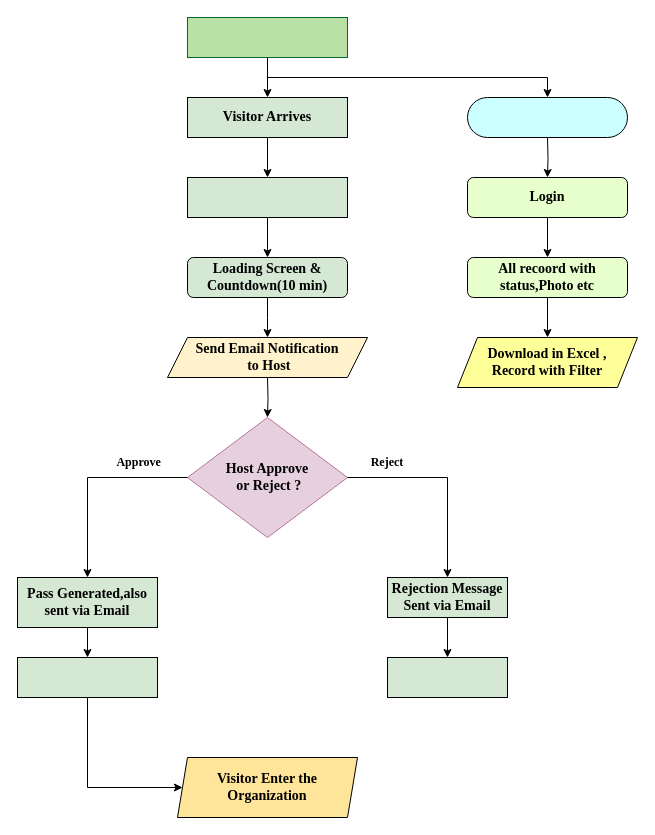
Some shapes in this 655 by 835 pixel diagram are drawn without their labels. The shapes that lost their labels are listed below. From the top down, each one's box as (x1, y1, x2, y2) in pixels, then its label:
(186, 16, 348, 58): START
(466, 96, 628, 138): Admin
(186, 176, 348, 218): Enter Details Form
(16, 656, 158, 698): Visitor Print/Show Pass
(386, 656, 508, 698): Visitor
